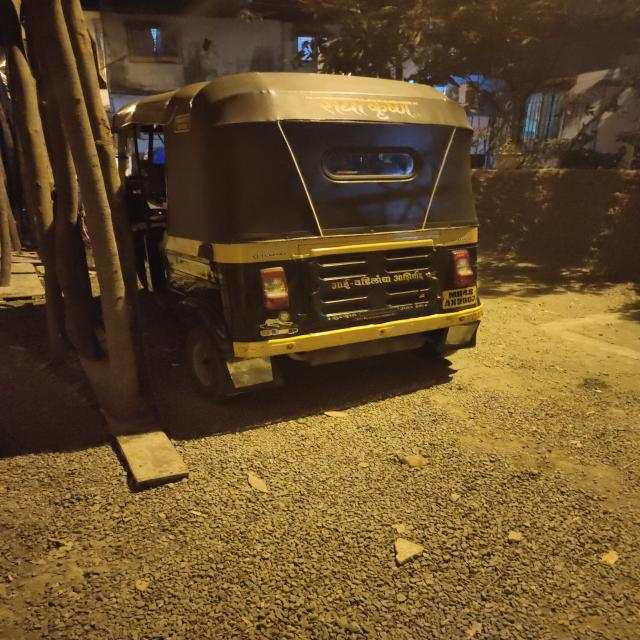Autorickshaw: (61, 38, 530, 393)
